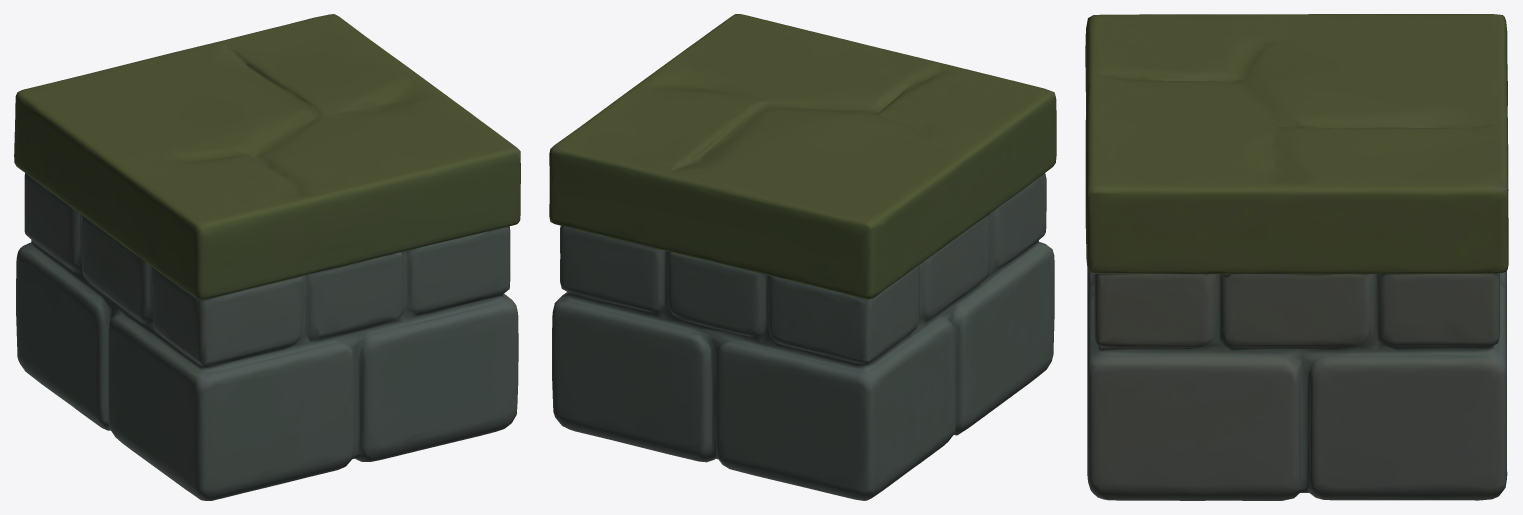
Rendered from grass_tripo_v7_g50.glb.
3 renders of one model, left to right at view 1: azimuth 30°, elevation 25°; view 2: azimuth 150°, elevation 25°; view 3: azimuth 270°, elevation 25°, orthographic. The views are drawn at different scales.
Visible parts, largest first — view 1: tripo_node_4502d38e-2dda-4b25-8010-c4ac6b404b5c; view 2: tripo_node_4502d38e-2dda-4b25-8010-c4ac6b404b5c; view 3: tripo_node_4502d38e-2dda-4b25-8010-c4ac6b404b5c.
Boxes of the visible parts, bbox=[...] form: tripo_node_4502d38e-2dda-4b25-8010-c4ac6b404b5c: bbox=[14, 14, 520, 500]; tripo_node_4502d38e-2dda-4b25-8010-c4ac6b404b5c: bbox=[549, 14, 1056, 500]; tripo_node_4502d38e-2dda-4b25-8010-c4ac6b404b5c: bbox=[1085, 14, 1508, 500].
Bounding box in the file's own units: 0.9957 × 0.841 × 1.
1 material, 1 textured.
